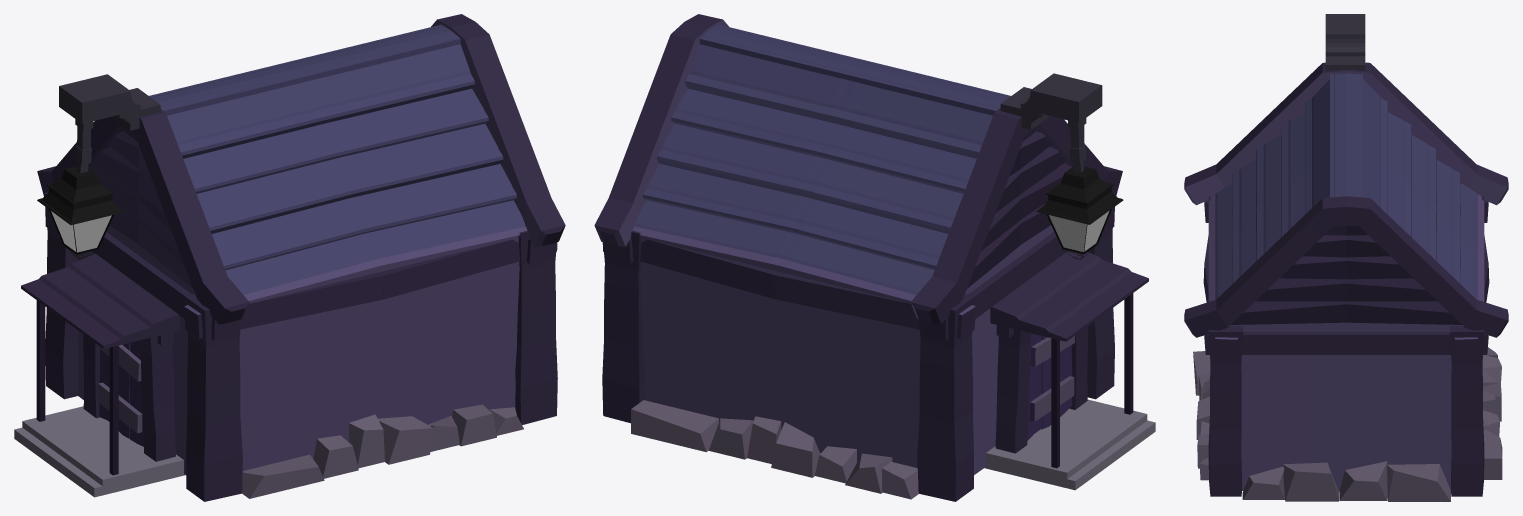
The model's file is casa4.0.fbx.
The picture shows the model from 3 angles, left to right: view 1: azimuth 30°, elevation 25°; view 2: azimuth 150°, elevation 25°; view 3: azimuth 270°, elevation 25°; orthographic projection. The views are drawn at different scales.
Visible parts, largest first — view 1: casa.009, porta.006, pedras.009, negocinho feio.003, madeira porta.005, porta.008; view 2: casa.009, porta.006, pedras.009, negocinho feio.003, madeira porta.005, porta.008; view 3: casa.009, pedras.009, negocinho feio.003.
Boxes of the visible parts, bbox=[...] form: casa.009: bbox=[37, 14, 565, 501]; porta.006: bbox=[14, 254, 185, 497]; pedras.009: bbox=[242, 404, 523, 498]; negocinho feio.003: bbox=[37, 74, 160, 259]; madeira porta.005: bbox=[83, 334, 175, 461]; porta.008: bbox=[97, 340, 143, 446]; casa.009: bbox=[594, 14, 1122, 501]; porta.006: bbox=[984, 250, 1155, 490]; pedras.009: bbox=[631, 400, 919, 499]; negocinho feio.003: bbox=[1000, 73, 1123, 259]; madeira porta.005: bbox=[995, 326, 1088, 453]; porta.008: bbox=[1027, 333, 1074, 440]; casa.009: bbox=[1184, 62, 1508, 496]; pedras.009: bbox=[1193, 347, 1502, 501]; negocinho feio.003: bbox=[1325, 14, 1365, 70].
Size of the model in its own units: 4775 by 3764 by 3527.
